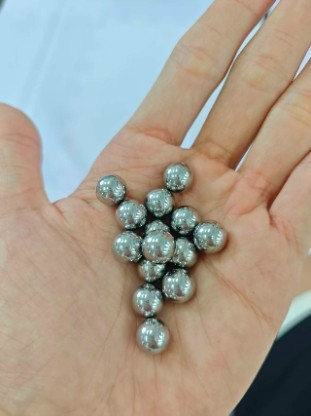ironball: (134, 319, 168, 353), (163, 269, 193, 303), (195, 218, 224, 253), (141, 230, 172, 259), (131, 285, 161, 314), (97, 173, 124, 203), (116, 199, 143, 228), (163, 161, 190, 190), (170, 237, 195, 267), (145, 188, 172, 215), (112, 232, 140, 258), (172, 205, 196, 232), (138, 257, 164, 278), (145, 219, 169, 232)
